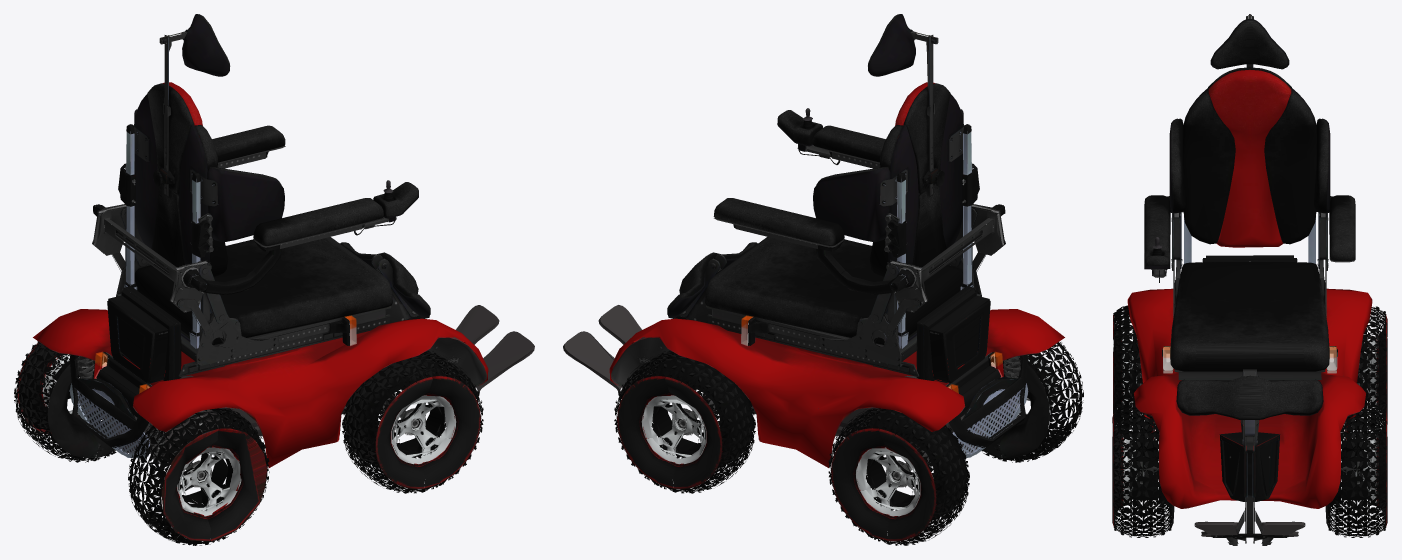
File: electric-wheelchair.glb
3 renders of one model, left to right at view 1: azimuth 30°, elevation 25°; view 2: azimuth 150°, elevation 25°; view 3: azimuth 270°, elevation 25°, orthographic. The views are drawn at different scales.
Visible parts, largest first — view 1: _grouppasted__polySurface350pasted__polySurface101_lambert3_, polySurface130_lambert7_0, _grouppasted__polySurface350pasted__polySurface101_lambert8_, _grouppasted__polySurface350pasted__polySurface101_lambert6_, _grouppasted__polySurface350pasted__polySurface101__pasted__; view 2: _grouppasted__polySurface350pasted__polySurface101_lambert3_, polySurface130_lambert7_0, _grouppasted__polySurface350pasted__polySurface101_lambert8_, _grouppasted__polySurface350pasted__polySurface101_lambert6_; view 3: _grouppasted__polySurface350pasted__polySurface101_lambert3_, _grouppasted__polySurface350pasted__polySurface101_lambert6_, polySurface130_lambert7_0, _grouppasted__polySurface350pasted__polySurface101_lambert8_, _grouppasted__polySurface350pasted__polySurface101_lambert10.
Part boxes in pixels (<box>): _grouppasted__polySurface350pasted__polySurface101_lambert3_: <box>134,14,430,344</box>; polySurface130_lambert7_0: <box>14,341,483,545</box>; _grouppasted__polySurface350pasted__polySurface101_lambert8_: <box>69,31,426,487</box>; _grouppasted__polySurface350pasted__polySurface101_lambert6_: <box>33,305,534,467</box>; _grouppasted__polySurface350pasted__polySurface101__pasted__: <box>194,314,279,366</box>; _grouppasted__polySurface350pasted__polySurface101_lambert3_: <box>667,14,963,344</box>; polySurface130_lambert7_0: <box>614,342,1083,545</box>; _grouppasted__polySurface350pasted__polySurface101_lambert8_: <box>671,31,1028,487</box>; _grouppasted__polySurface350pasted__polySurface101_lambert6_: <box>563,305,1064,467</box>; _grouppasted__polySurface350pasted__polySurface101_lambert3_: <box>1144,19,1355,419</box>; _grouppasted__polySurface350pasted__polySurface101_lambert6_: <box>1127,288,1372,536</box>; polySurface130_lambert7_0: <box>1112,305,1387,537</box>; _grouppasted__polySurface350pasted__polySurface101_lambert8_: <box>1140,14,1359,545</box>; _grouppasted__polySurface350pasted__polySurface101_lambert10: <box>1163,346,1337,370</box>.
Bounding box in the file's own units: 1.05 × 1.1 × 0.6219.
7 materials, 5 textured.
